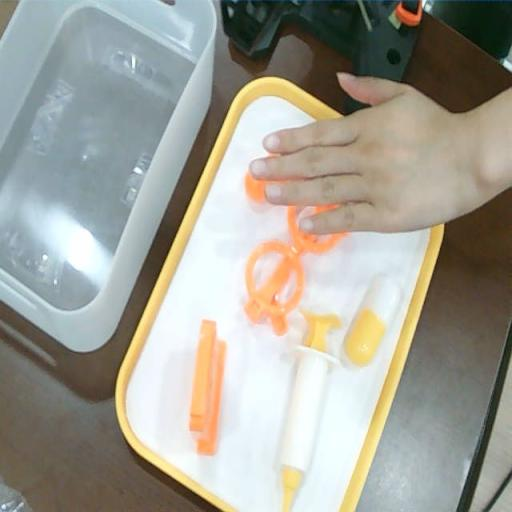hospital: (250, 72, 492, 234)
